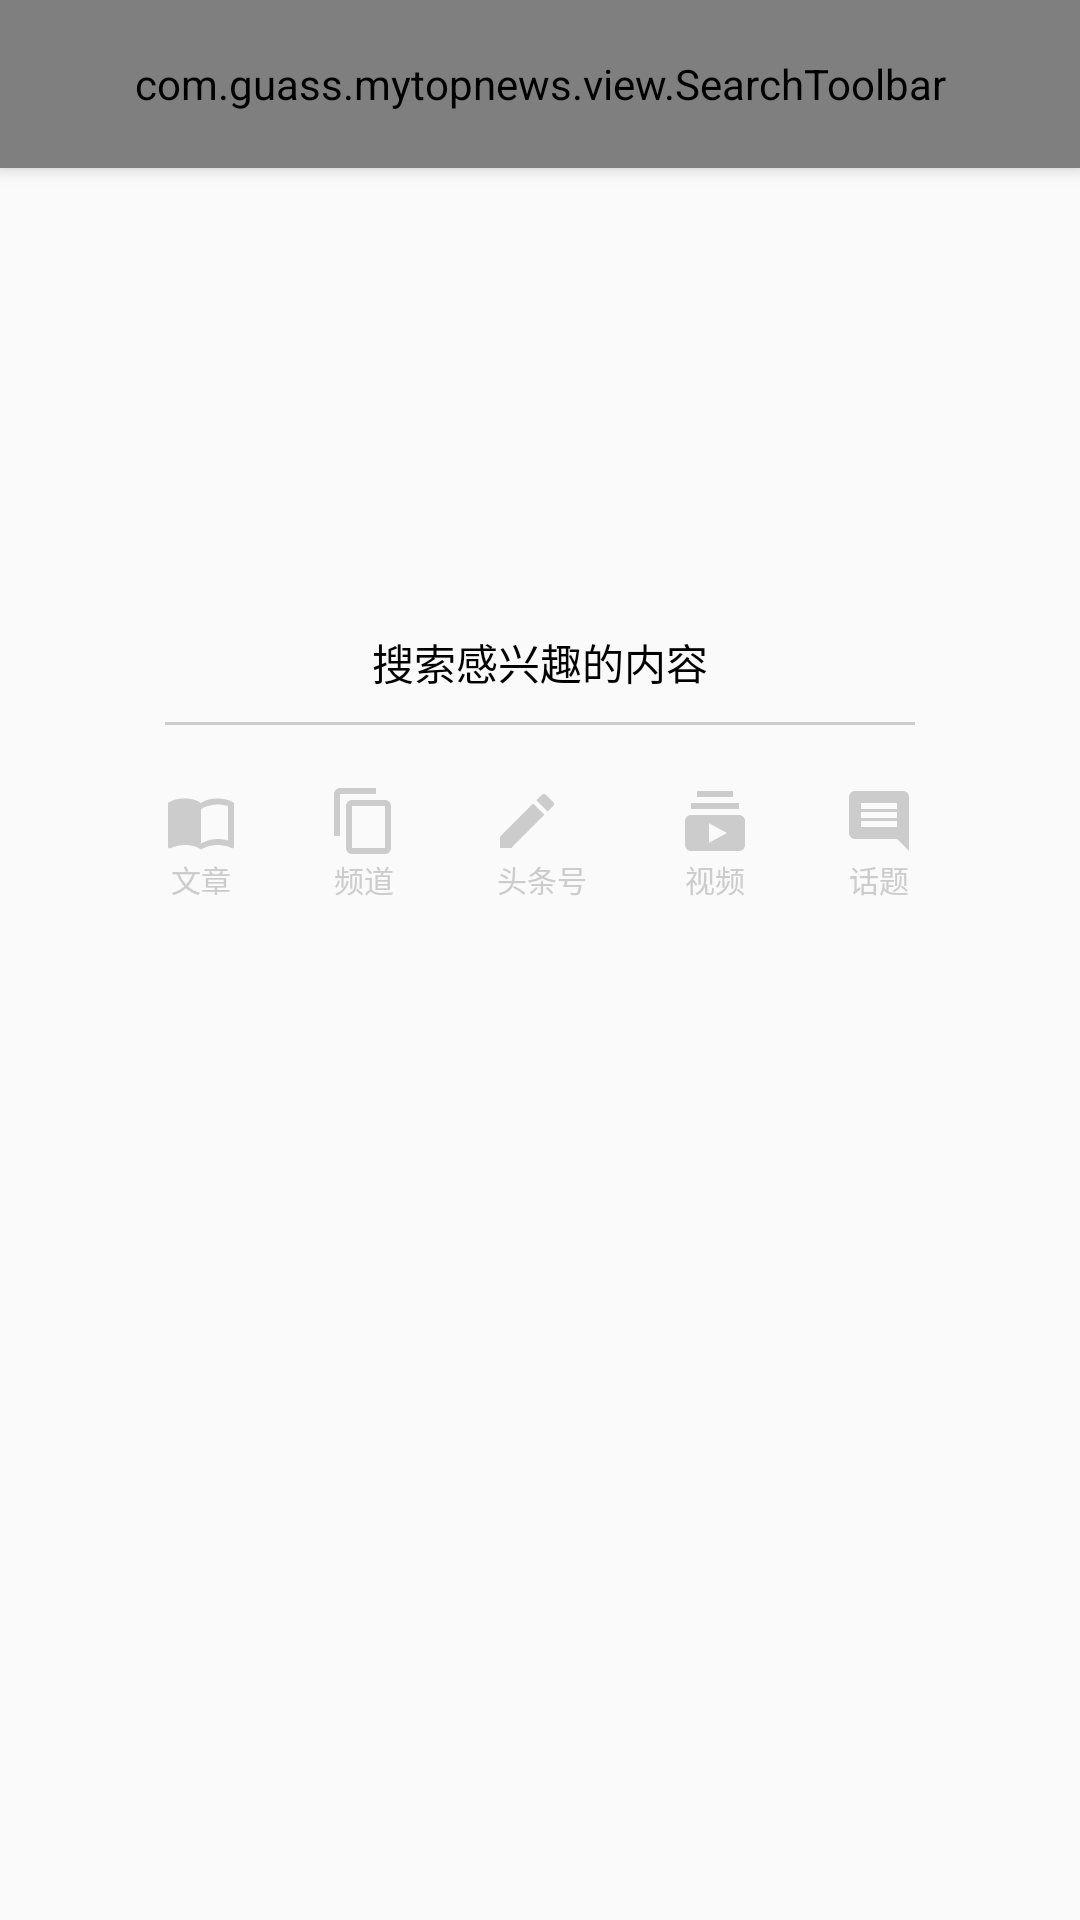

Icon bounding boxes for this 1080 × 1920 phone screenshot, format bbox=[x1, y1, x2, y2]:
comment: bbox=[849, 791, 909, 850]
create: bbox=[500, 794, 554, 848]
